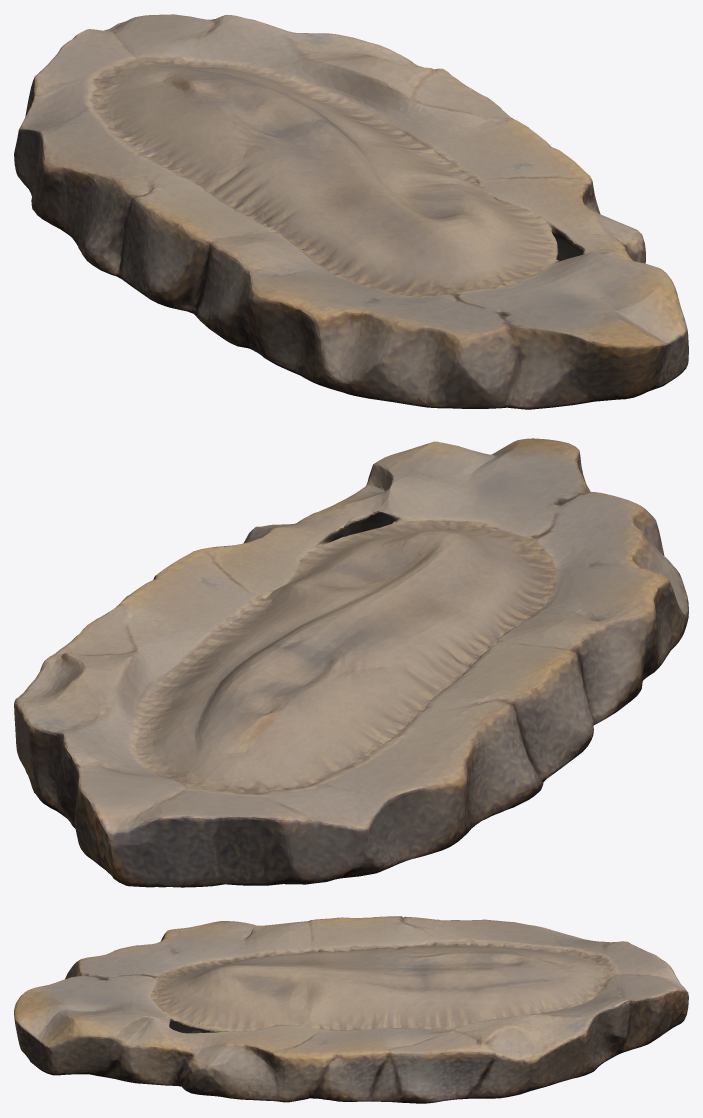
3 renders of one model, top to bottom at view 1: azimuth 30°, elevation 25°; view 2: azimuth 150°, elevation 25°; view 3: azimuth 270°, elevation 25°, orthographic. The views are drawn at different scales.
Visible parts, largest first — view 1: world; view 2: world; view 3: world.
Boxes of the visible parts, x1,y1,x2,y2 form: world: (14, 14, 688, 409); world: (14, 438, 688, 887); world: (14, 916, 688, 1103).
Size of the model in its own units: 0.0535 by 0.0107 by 0.1012.
Materials: 1 (1 with a texture image).
